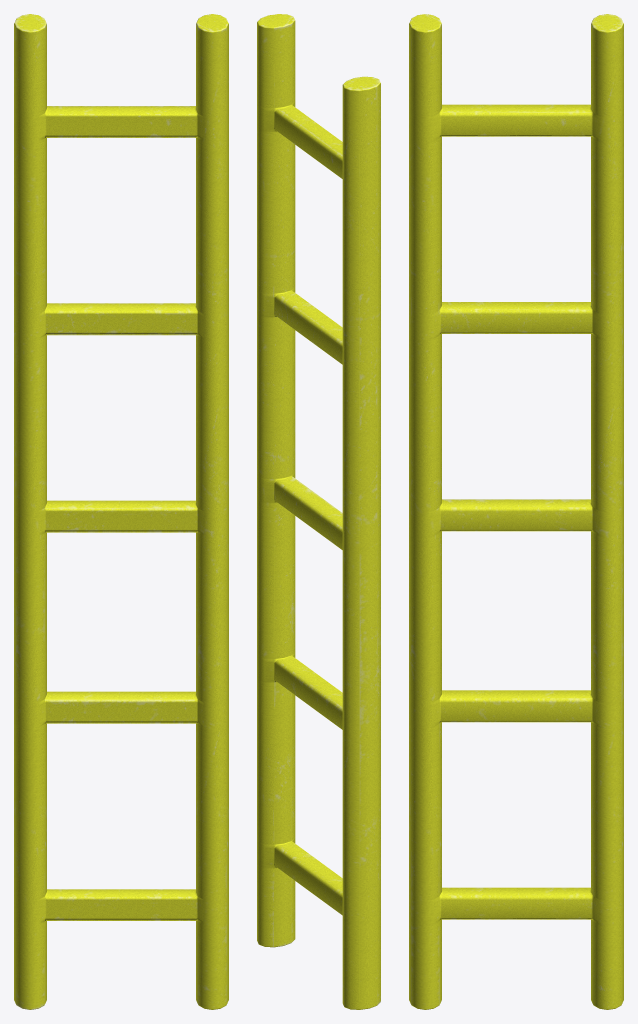
The model's file is Ladder.glb.
3 renders of one model, left to right at view 1: azimuth 90°, elevation 25°; view 2: azimuth 210°, elevation 25°; view 3: azimuth 270°, elevation 25°, orthographic. The views are drawn at different scales.
Visible parts, largest first — view 1: ladderStep; view 2: ladderStep; view 3: ladderStep.
Boxes of the visible parts, <box> form: ladderStep: <box>14,14,228,1009</box>; ladderStep: <box>257,14,380,1009</box>; ladderStep: <box>409,14,623,1009</box>.
Bounding box in the file's own units: 0.2926 × 7.28 × 1.45.
Materials: 1 (1 with a texture image).
